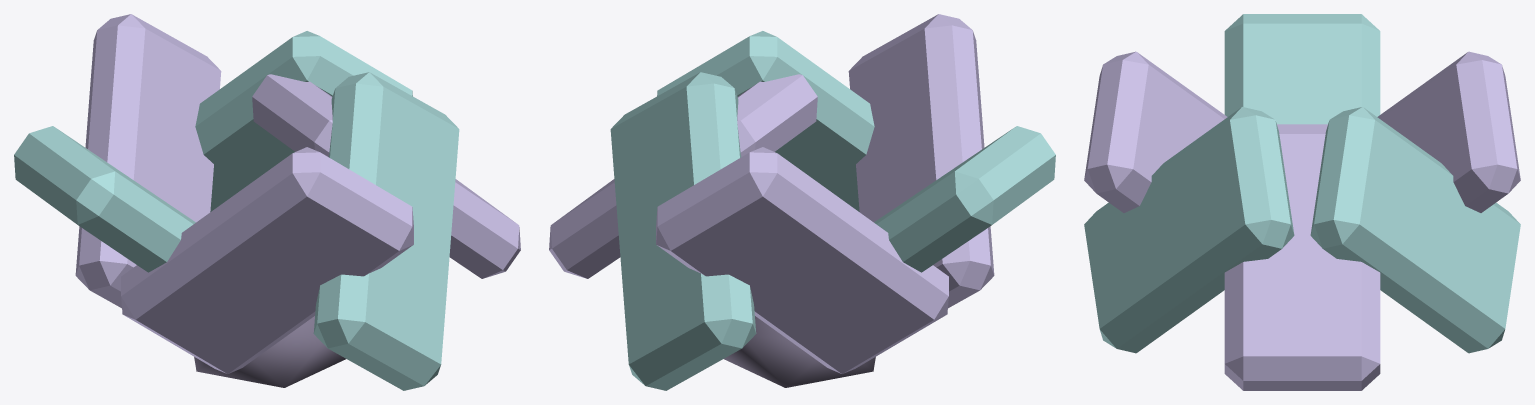
Rendered from ember_ash_fern.glb.
The picture shows the model from 3 angles, left to right: view 1: azimuth 30°, elevation 25°; view 2: azimuth 150°, elevation 25°; view 3: azimuth 270°, elevation 25°; orthographic projection. The views are drawn at different scales.
Parts seen in each view (by area): view 1: ember_ash_fern.001; view 2: ember_ash_fern.001; view 3: ember_ash_fern.001.
Part boxes in pixels (left/top/right/bottom): ember_ash_fern.001: left=14, top=14, right=520, bottom=390; ember_ash_fern.001: left=549, top=14, right=1055, bottom=390; ember_ash_fern.001: left=1084, top=14, right=1520, bottom=390.
Size of the model in its own units: 1.57 by 1.04 by 1.4.
